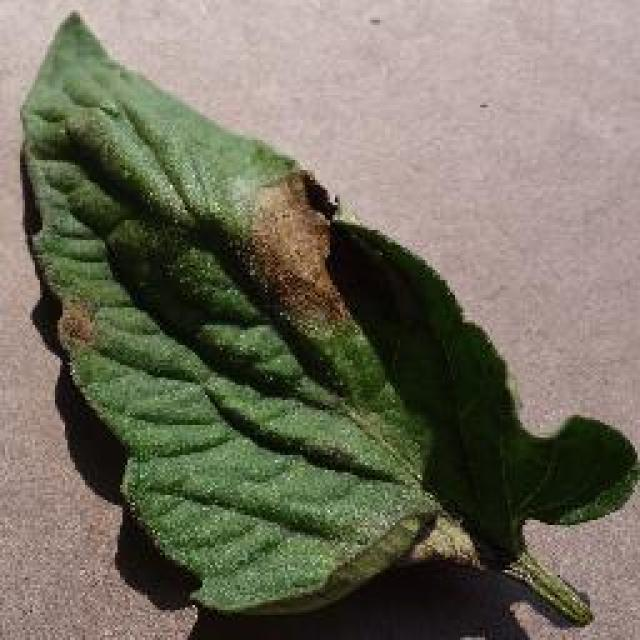Tomato___Late_blight: (20, 12, 638, 628)
